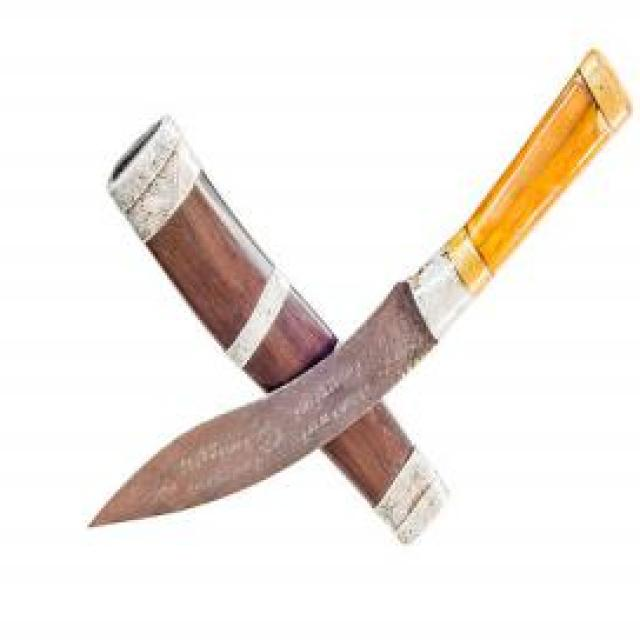knife: (84, 47, 630, 532)
